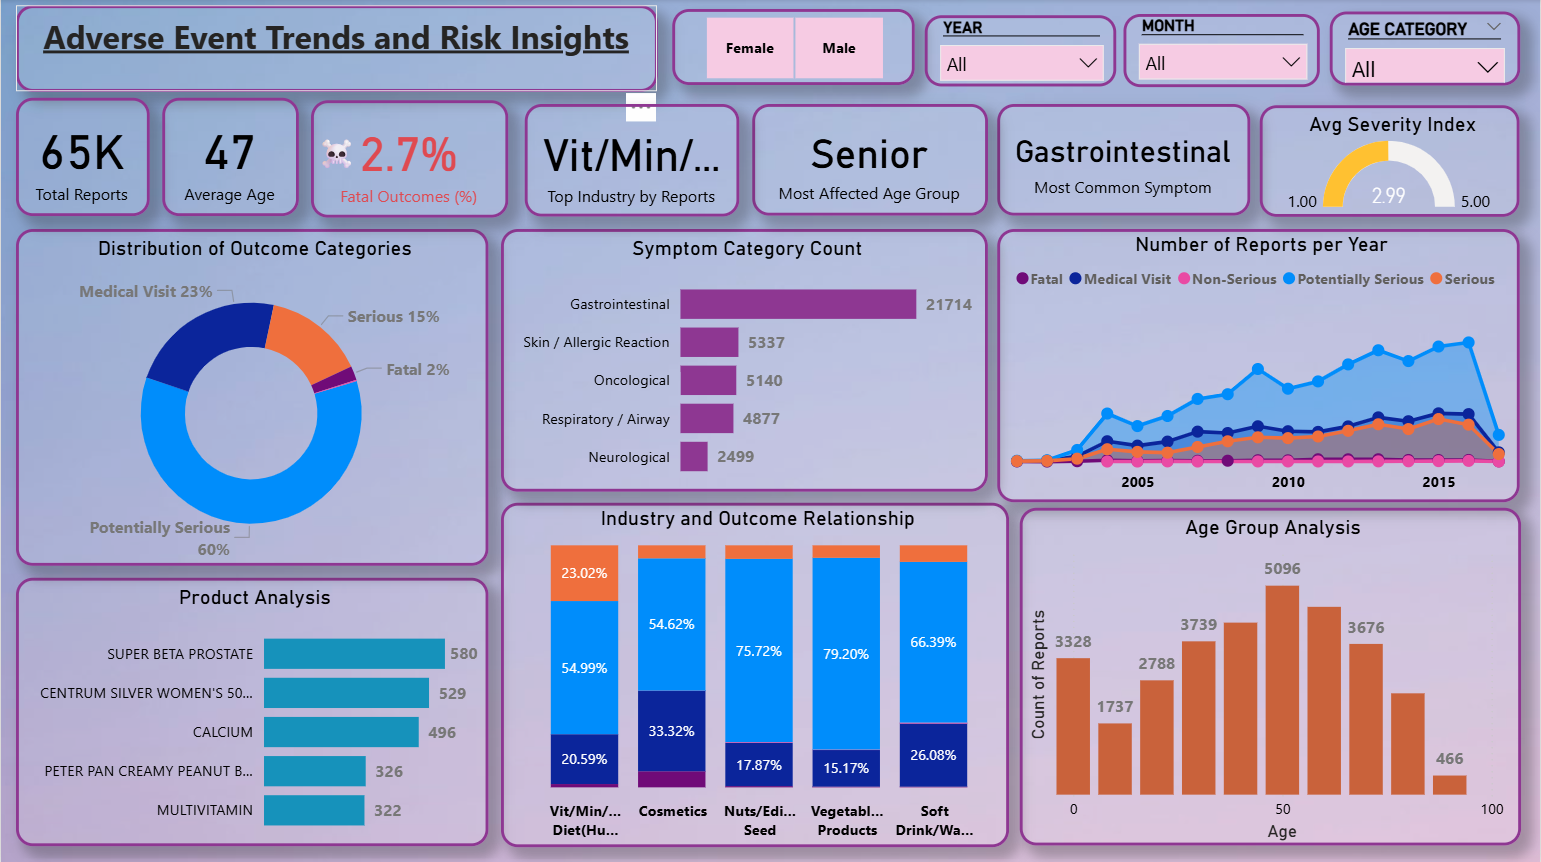

The page's visual inventory and layout, read from the dashboard file:
{"tool":"powerbi","page":{"name":"Dashboard 2","canvas":[1280,720],"ordinal":20},"visuals":[{"type":"textbox","box":[12.3,4.9,533.3,71.6],"z":0},{"type":"clusteredBarChart","title":"Product Analysis","fields":{"Category":["CAERS_ASCII_2004_2017Q2.product_name"],"Y":["Count(CAERS_ASCII_2004_2017Q2.report_id)"]},"box":[12.3,481.5,392.6,223.5],"z":1000},{"type":"donutChart","title":"Distribution of Outcome Categories","fields":{"Category":["CAERS_ASCII_2004_2017Q2.outcome_category"],"Y":["Count(CAERS_ASCII_2004_2017Q2.report_id)"]},"box":[12.3,191.4,392.6,280.2],"z":2000},{"type":"card","fields":{"Values":["CAERS_ASCII_2004_2017Q2.Total_Reports"]},"box":[12.3,82.6,110.9,98.6],"z":3000},{"type":"card","fields":{"Values":["CAERS_ASCII_2004_2017Q2.Average_Age"]},"box":[134.3,82.6,113.4,98.6],"z":4000},{"type":"actionButton","box":[0,0,100,40],"z":5000},{"type":"card","fields":{"Values":["CAERS_ASCII_2004_2017Q2.Most_Common_Symptom"]},"box":[828,87.5,210.7,92.4],"z":6000},{"type":"slicer","fields":{"Values":["CAERS_ASCII_2004_2017Q2.gender"]},"box":[558,8.6,201.2,63],"z":7000},{"type":"slicer","fields":{"Values":["CAERS_ASCII_2004_2017Q2.age_category"]},"box":[1104.7,10.5,158.1,61.6],"z":8000},{"type":"slicer","fields":{"Values":["Calendar.Month"]},"box":[933.3,12.3,163,60.5],"z":9000},{"type":"hundredPercentStackedColumnChart","title":"Industry and Outcome Relationship","fields":{"Category":["CAERS_ASCII_2004_2017Q2.industry_name"],"Series":["CAERS_ASCII_2004_2017Q2.outcome_category"],"Y":["Count(CAERS_ASCII_2004_2017Q2.report_id)"]},"box":[416.1,418.5,422.2,286.4],"z":10000},{"type":"clusteredBarChart","title":"Symptom Category Count","fields":{"Category":["CAERS_ASCII_2004_2017Q2.symptom_category"],"Y":["CAERS_ASCII_2004_2017Q2.SymptomCategory_Count"]},"box":[416.1,191.4,404.9,218.5],"z":11000},{"type":"card","fields":{"Values":["CAERS_ASCII_2004_2017Q2.Fatal Outcomes (%)"]},"box":[257.5,83.8,163.9,97.3],"z":12000},{"type":"card","fields":{"Values":["CAERS_ASCII_2004_2017Q2.Most Affected Age Group"]},"box":[624.7,87.5,195.9,92.4],"z":13000},{"type":"card","fields":{"Values":["CAERS_ASCII_2004_2017Q2.Top Industry by Reports"]},"box":[435,87.5,178.7,93.6],"z":14000},{"type":"gauge","fields":{"Y":["CAERS_ASCII_2004_2017Q2.Avg_Severity_Index"]},"box":[1046.5,88.4,216.3,93],"z":15000},{"type":"slicer","fields":{"Values":["Calendar.Year"]},"box":[767.9,13.6,159.3,59.3],"z":16000},{"type":"areaChart","title":"Number of Reports per Year","fields":{"Category":["CAERS_ASCII_2004_2017Q2.event_start_date.Variation.Date Hierarchy.Year"],"Y":["Count(CAERS_ASCII_2004_2017Q2.report_id)"],"Series":["CAERS_ASCII_2004_2017Q2.outcome_category"]},"box":[828.4,191.4,434.6,227.2],"z":17000},{"type":"textbox","box":[258,107,65.9,52.1],"z":18000},{"type":"clusteredColumnChart","title":"Age Group Analysis","fields":{"Y":["Count(CAERS_ASCII_2004_2017Q2.report_id)"],"Category":["CAERS_ASCII_2004_2017Q2.age_year (bins)"]},"box":[847,423.5,416.5,280.9],"z":19000}]}

Visuals, with their boxes in screenshot pixels (x1, y1, x2, y2), scaled from the page's 1280x720 canvas onto the 1541x862 screenshot:
textbox: [15, 6, 657, 92]
"Product Analysis" clusteredBarChart: [15, 576, 487, 844]
"Distribution of Outcome Categories" donutChart: [15, 229, 487, 565]
card - CAERS_ASCII_2004_2017Q2.Total_Reports: [15, 99, 148, 217]
card - CAERS_ASCII_2004_2017Q2.Average_Age: [162, 99, 298, 217]
actionButton: [0, 0, 120, 48]
card - CAERS_ASCII_2004_2017Q2.Most_Common_Symptom: [997, 105, 1250, 215]
slicer - CAERS_ASCII_2004_2017Q2.gender: [672, 10, 914, 86]
slicer - CAERS_ASCII_2004_2017Q2.age_category: [1330, 13, 1520, 86]
slicer - Calendar.Month: [1124, 15, 1320, 87]
"Industry and Outcome Relationship" hundredPercentStackedColumnChart: [501, 501, 1009, 844]
"Symptom Category Count" clusteredBarChart: [501, 229, 988, 491]
card - CAERS_ASCII_2004_2017Q2.Fatal Outcomes (%): [310, 100, 507, 217]
card - CAERS_ASCII_2004_2017Q2.Most Affected Age Group: [752, 105, 988, 215]
card - CAERS_ASCII_2004_2017Q2.Top Industry by Reports: [524, 105, 739, 217]
gauge - CAERS_ASCII_2004_2017Q2.Avg_Severity_Index: [1260, 106, 1520, 217]
slicer - Calendar.Year: [924, 16, 1116, 87]
"Number of Reports per Year" areaChart: [997, 229, 1521, 501]
textbox: [311, 128, 390, 190]
"Age Group Analysis" clusteredColumnChart: [1020, 507, 1521, 843]
